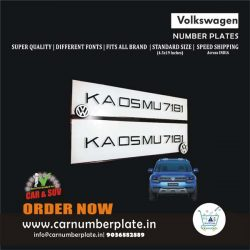number_plate: (69, 118, 195, 163), (69, 77, 197, 119)
